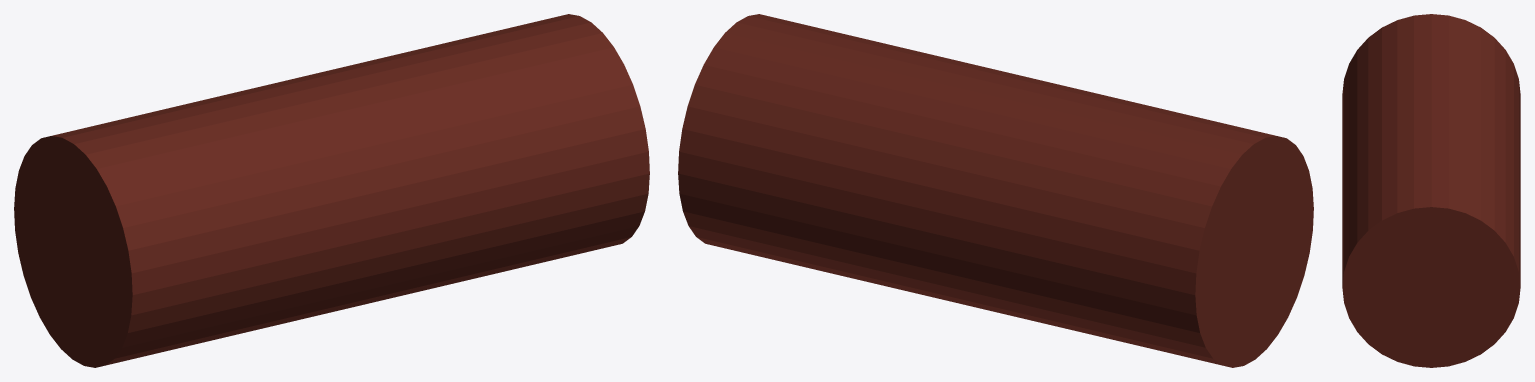
File: log.fbx
The picture shows the model from 3 angles, left to right: view 1: azimuth 30°, elevation 25°; view 2: azimuth 150°, elevation 25°; view 3: azimuth 270°, elevation 25°; orthographic projection. The views are drawn at different scales.
Visible parts, largest first — view 1: Cylinder; view 2: Cylinder; view 3: Cylinder.
Boxes of the visible parts, left/top/right/bottom form: Cylinder: left=14, top=14, right=649, bottom=367; Cylinder: left=678, top=14, right=1313, bottom=367; Cylinder: left=1342, top=14, right=1520, bottom=367.
Size of the model in its own units: 32.69 by 13.2 by 12.94.
